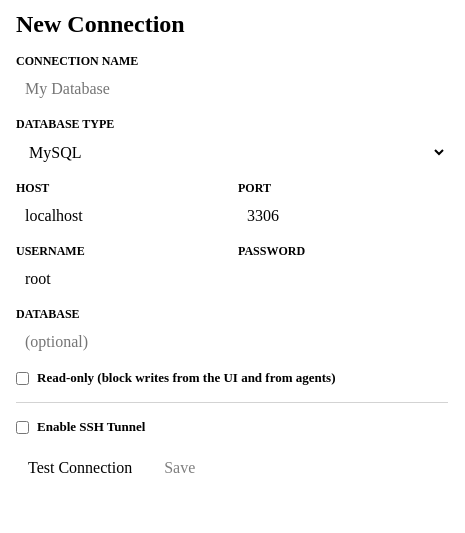
Test: ConnectionForm › 应该在收到 connectionTestResult 失败消息后显示错误提示
Click the button "Test Connection": (80, 468) 16,455 -> 144,481
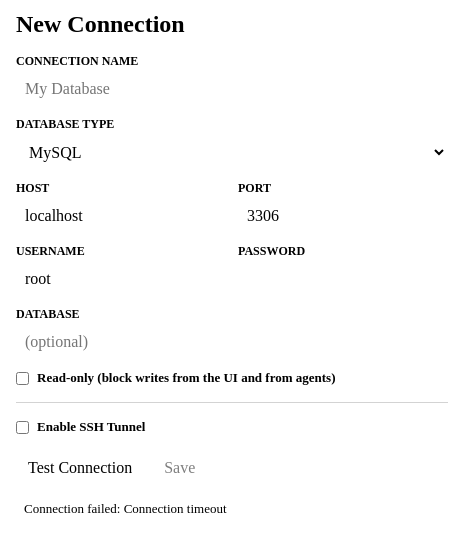
Result: the text "Connection failed: Connection timeout" is shown at 24,501 -> 226,516
